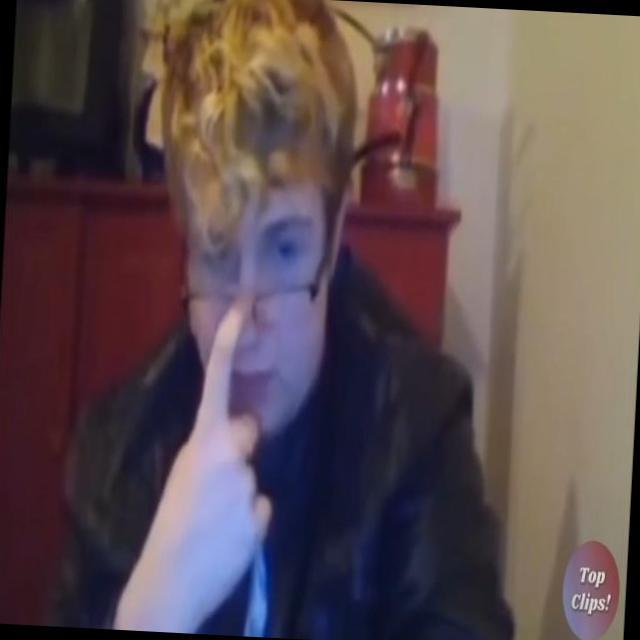person: (66, 0, 549, 640)
